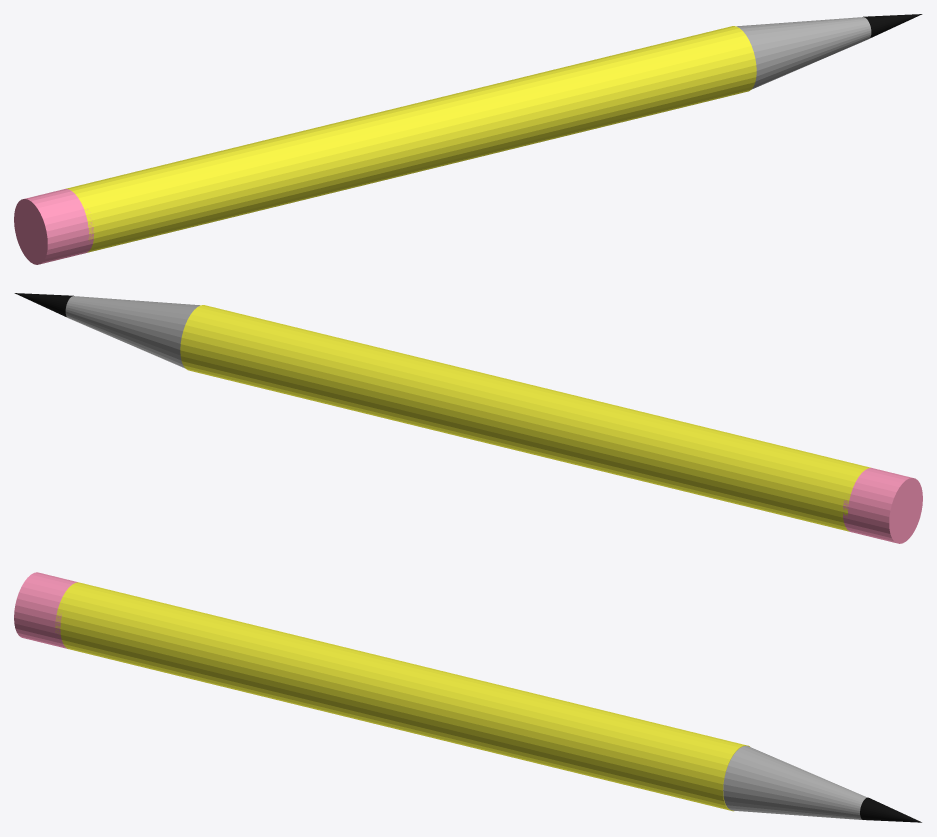
The model's file is pencilSingle.fbx.
3 views of the same model, one above another, from view 1: azimuth 30°, elevation 25°; view 2: azimuth 150°, elevation 25°; view 3: azimuth 330°, elevation 25° (orthographic).
Visible parts, largest first — view 1: Cylinder.001; view 2: Cylinder.001; view 3: Cylinder.001.
Part boxes in pixels (<box>): Cylinder.001: <box>14,14,922,264</box>; Cylinder.001: <box>14,293,922,543</box>; Cylinder.001: <box>14,572,921,822</box>.
Bounding box in the file's own units: 913 × 60 × 60.
